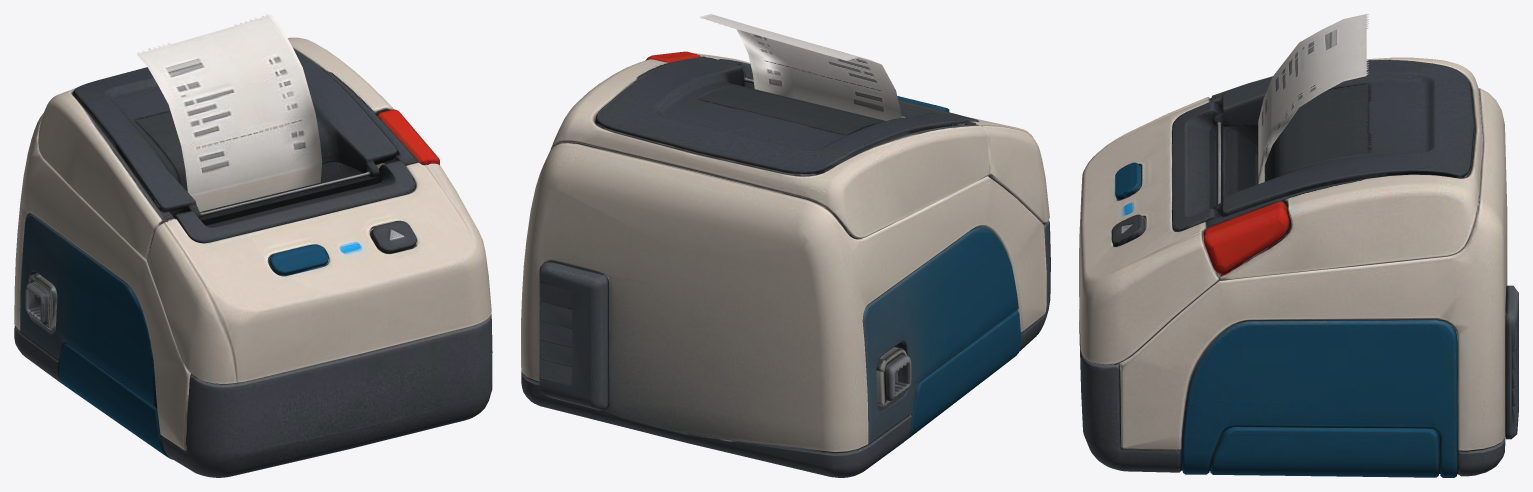
File: receipt_printer_smart.glb
The picture shows the model from 3 angles, left to right: view 1: azimuth 30°, elevation 25°; view 2: azimuth 150°, elevation 25°; view 3: azimuth 270°, elevation 25°; orthographic projection. The views are drawn at different scales.
Visible parts, largest first — view 1: receipt_printer_smart; view 2: receipt_printer_smart; view 3: receipt_printer_smart.
Boxes of the visible parts, x1=… form: receipt_printer_smart: x1=14, y1=14, x2=492, y2=477; receipt_printer_smart: x1=521, y1=14, x2=1050, y2=477; receipt_printer_smart: x1=1079, y1=14, x2=1518, y2=477.
Size of what is drawn, in the model's own units: 0.1779 by 0.1781 by 0.2.
1 material, 1 textured.
